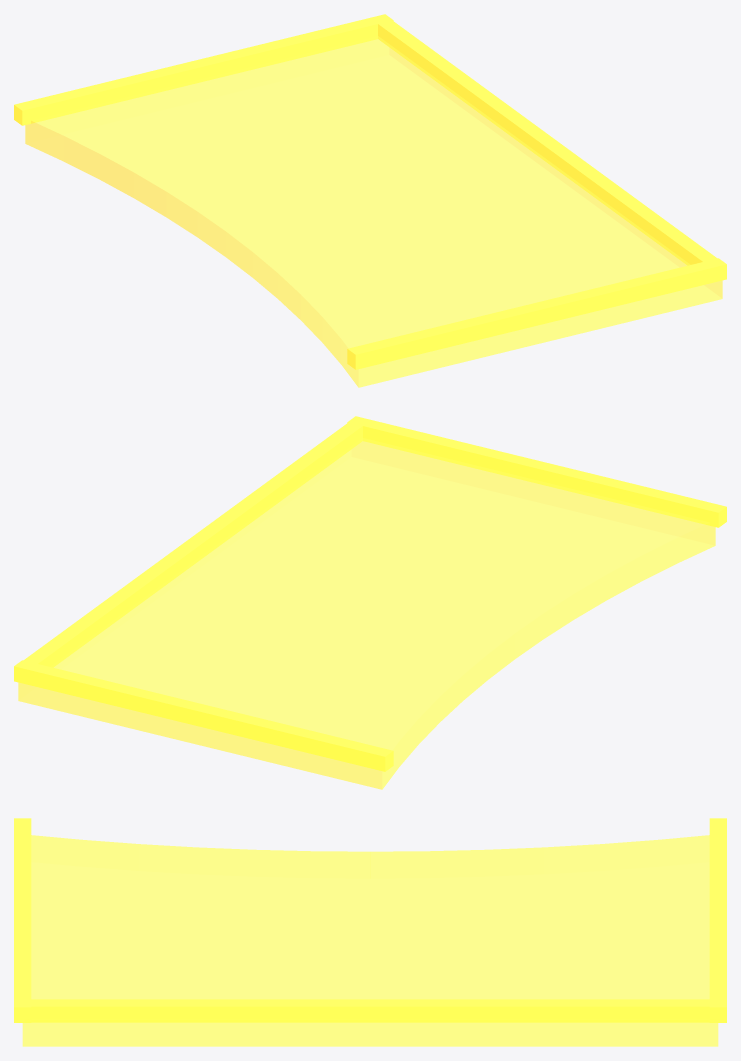
The model's file is Pier_Ghost_Switch_v2.glb.
3 views of the same model, one above another, from view 1: azimuth 30°, elevation 25°; view 2: azimuth 150°, elevation 25°; view 3: azimuth 270°, elevation 25° (orthographic). The views are drawn at different scales.
Visible parts, largest first — view 1: Pier_Ghost_Switch_v2; view 2: Pier_Ghost_Switch_v2; view 3: Pier_Ghost_Switch_v2.
Part boxes in pixels (x1=…): Pier_Ghost_Switch_v2: x1=14, y1=14, x2=726, y2=387; Pier_Ghost_Switch_v2: x1=14, y1=416, x2=726, y2=789; Pier_Ghost_Switch_v2: x1=14, y1=818, x2=726, y2=1046.
Bounding box in the file's own units: 1.8 × 0.175 × 2.87.
